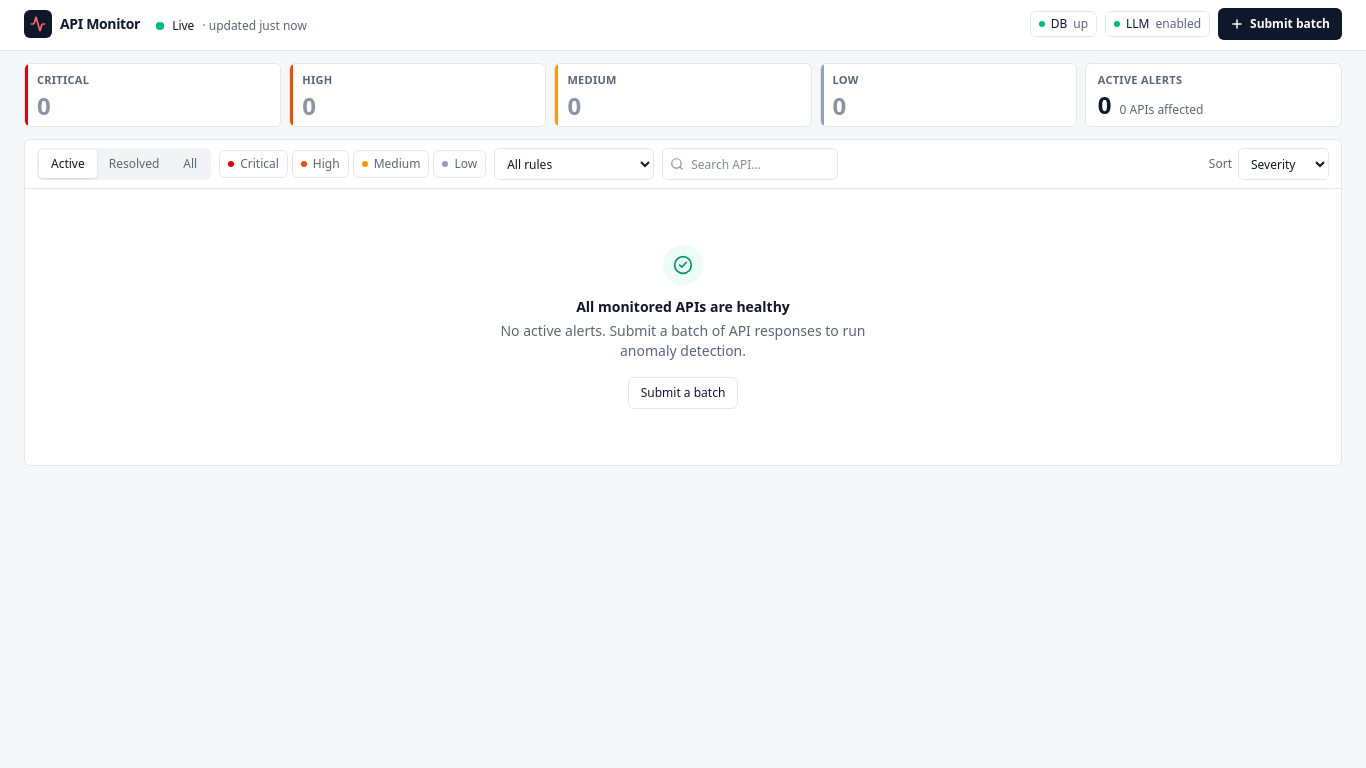
Test: App with alerts › opens the submit panel from the header and refreshes the list after a submit
The width and height of the screenshot is (1366, 768).
Expected: the heading "All monitored APIs are healthy" is shown, 576,297 -> 790,317
Click the button "Submit batch" at (1280, 24), box 1218,8 -> 1342,40
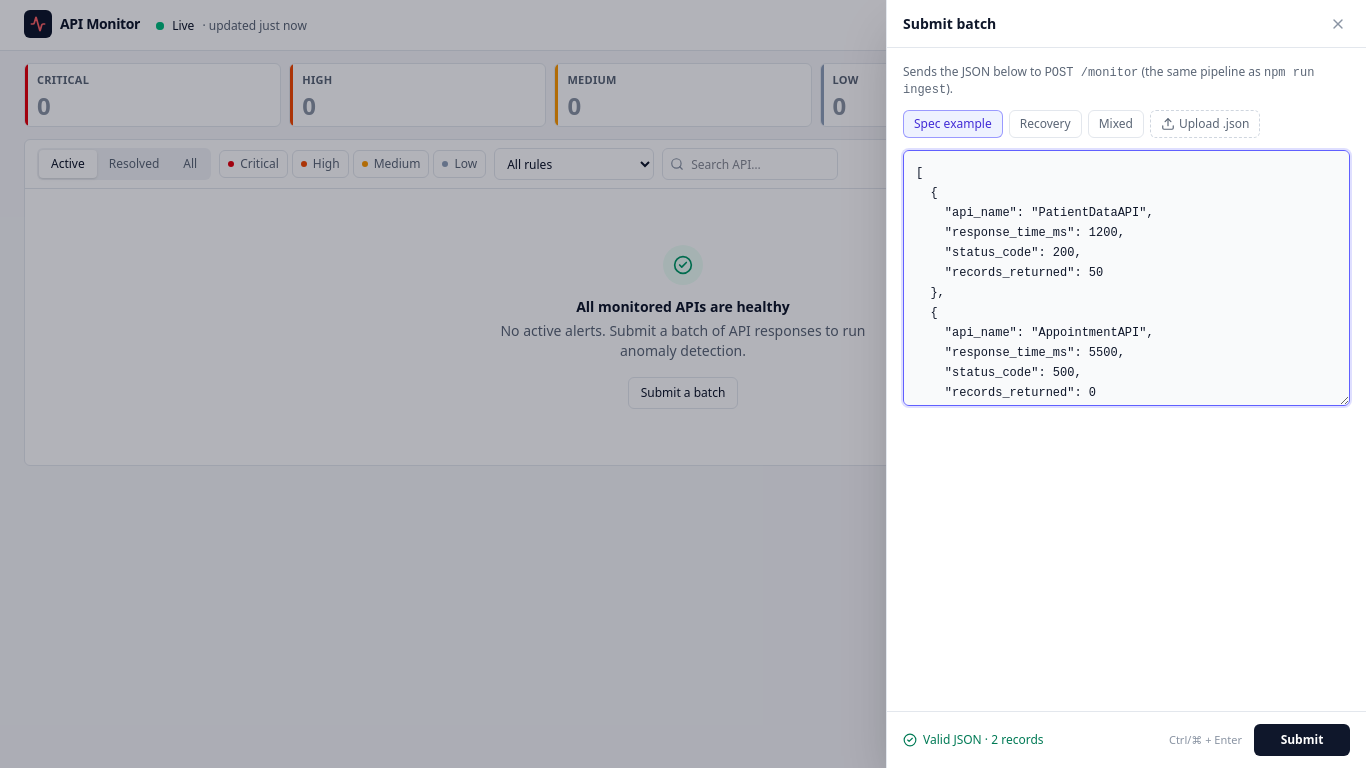
Click the button "Submit" at (1302, 740), box 1254,724 -> 1350,756
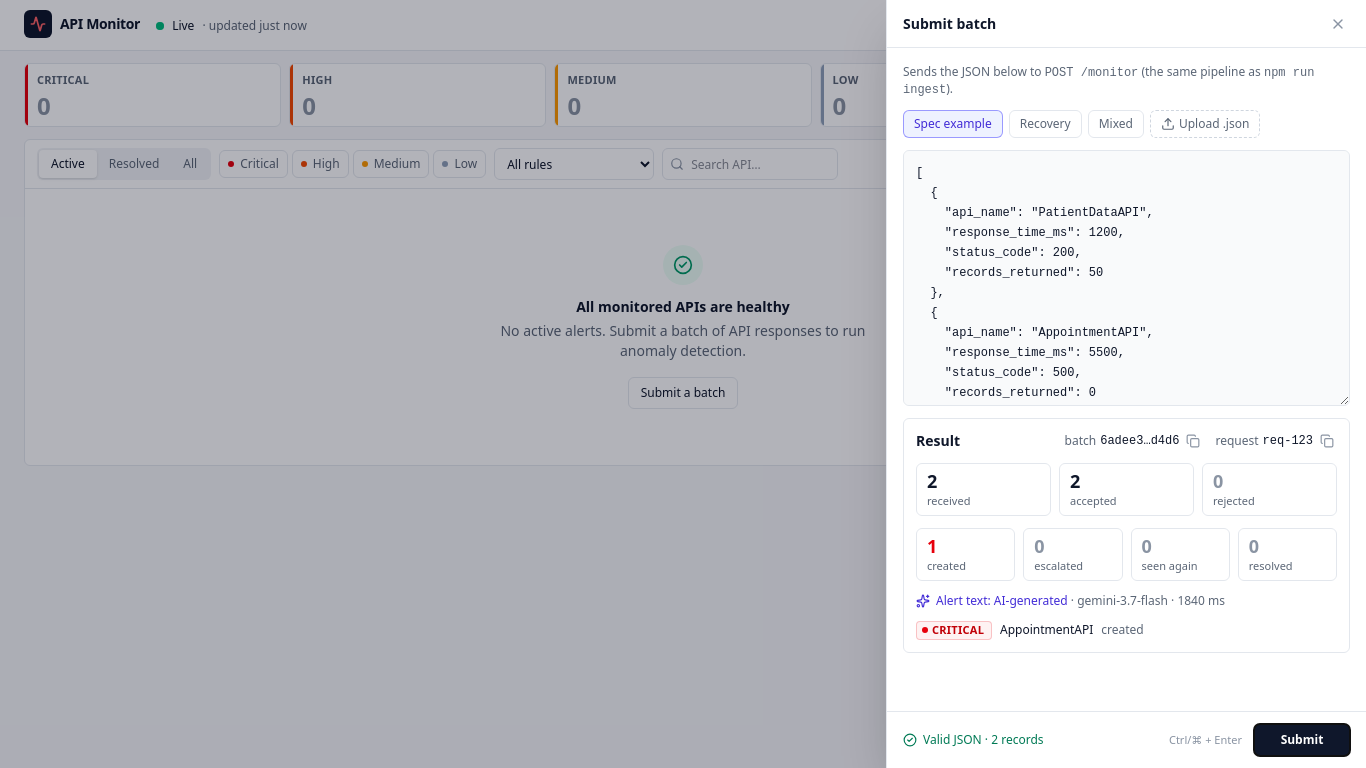
Expected: the element named "Batch result" is shown, 903,418 -> 1350,653
